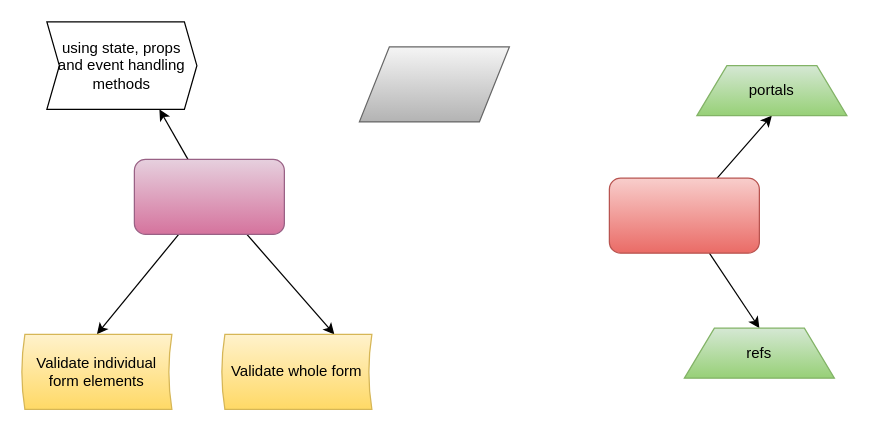
The diagram is 869 pixels wide and 431 high, and some of its shapes have lost their labels. Each missing label, with the centre of its shape:
"Controlled Form element" goes at (x=208, y=196).
"Uncontrolled Form element" goes at (x=683, y=215).
"Use Context for form valiation" goes at (x=433, y=84).
